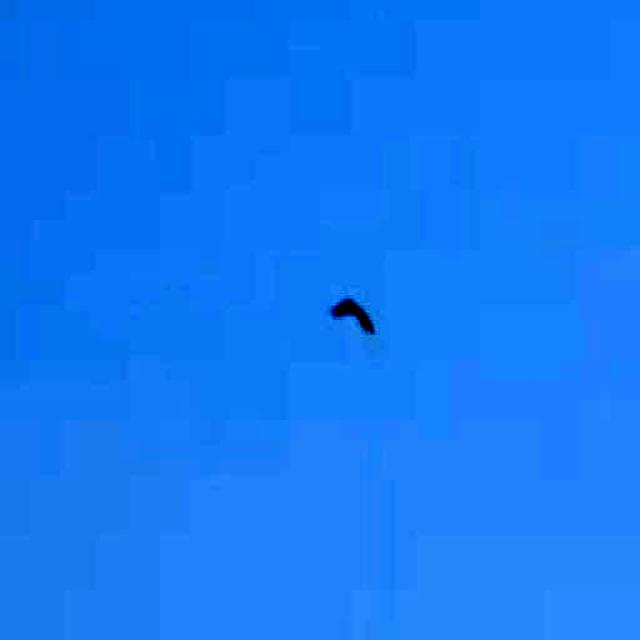airplane: (312, 270, 384, 368)
